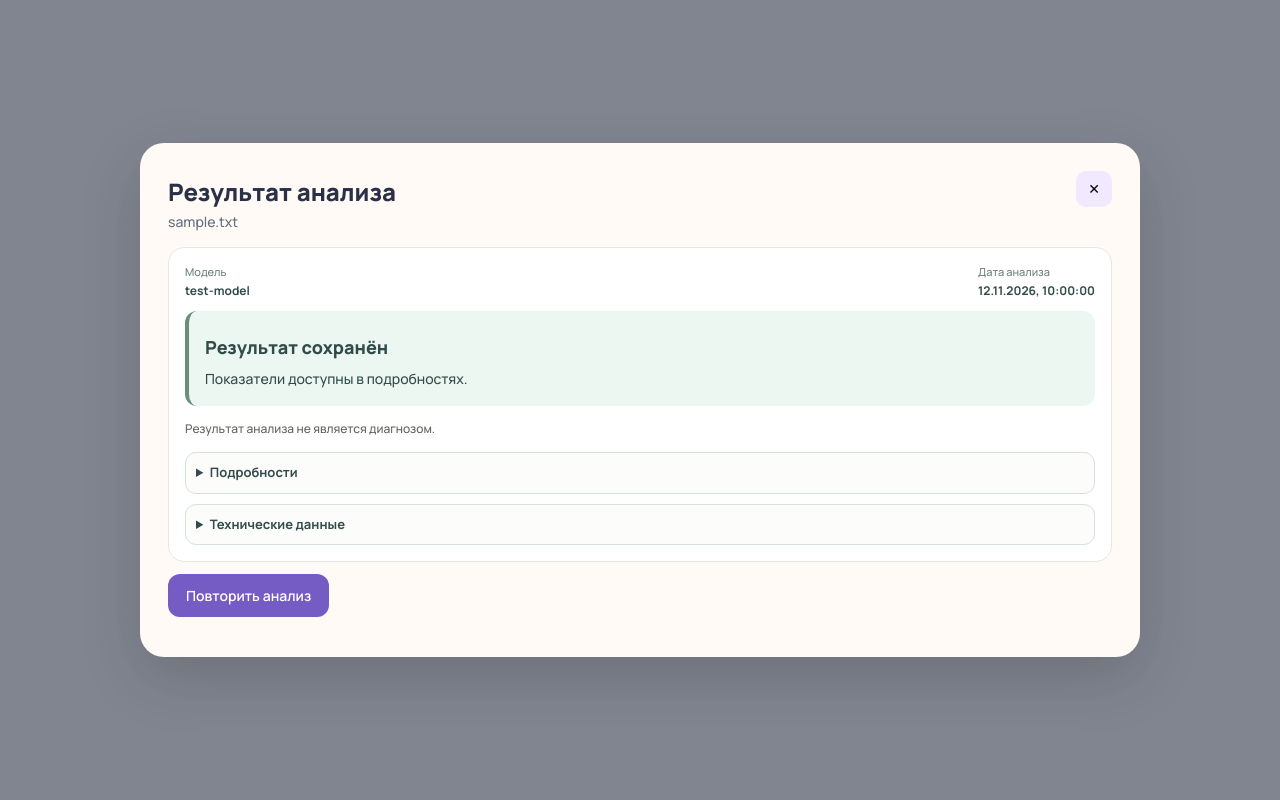
failed run is displayed and selectable with older history
Click the button "Повторить анализ": {"x": 249, "y": 596} [168, 574, 329, 617]
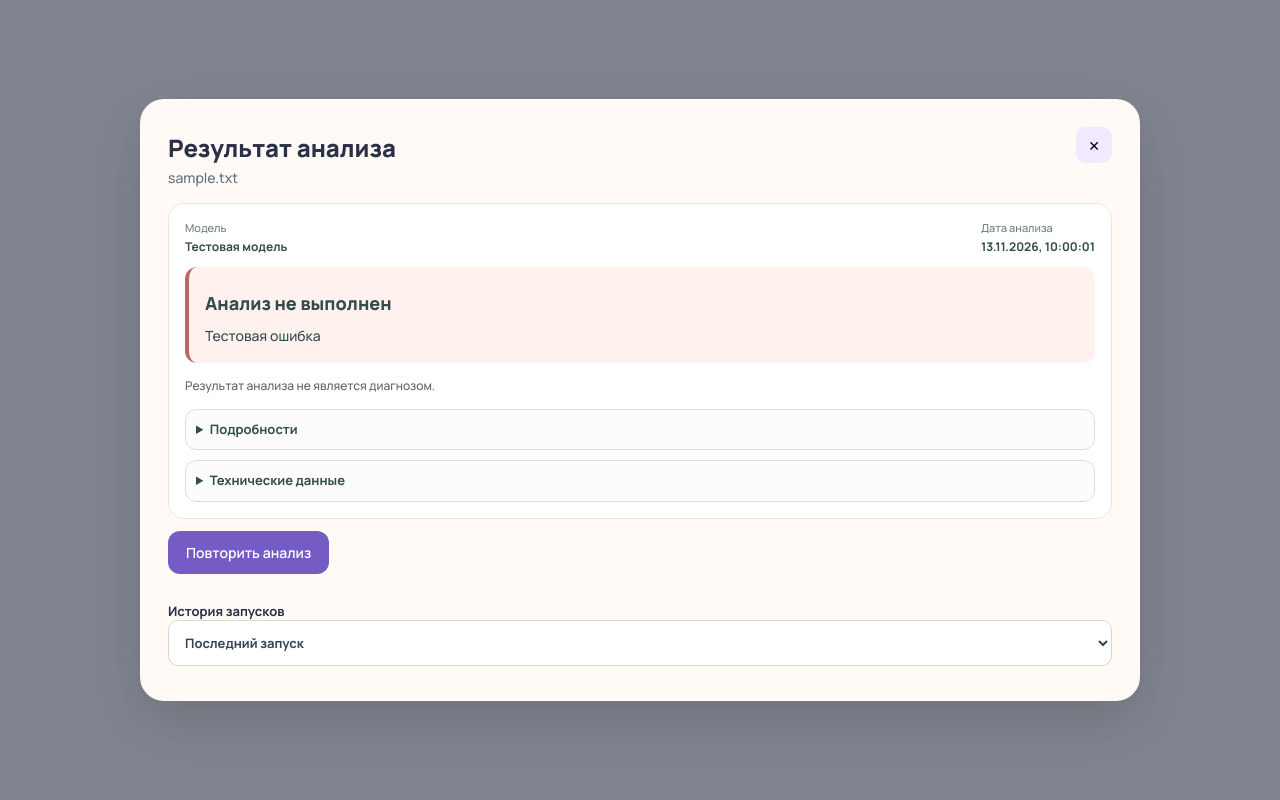
Expected: the heading "Анализ не выполнен" is shown, [205, 291, 392, 315]
Select "12.11.2026, 10:00:00 — Завершён" in the dropdown labelled "История запусков": {"x": 640, "y": 643} [168, 620, 1112, 666]
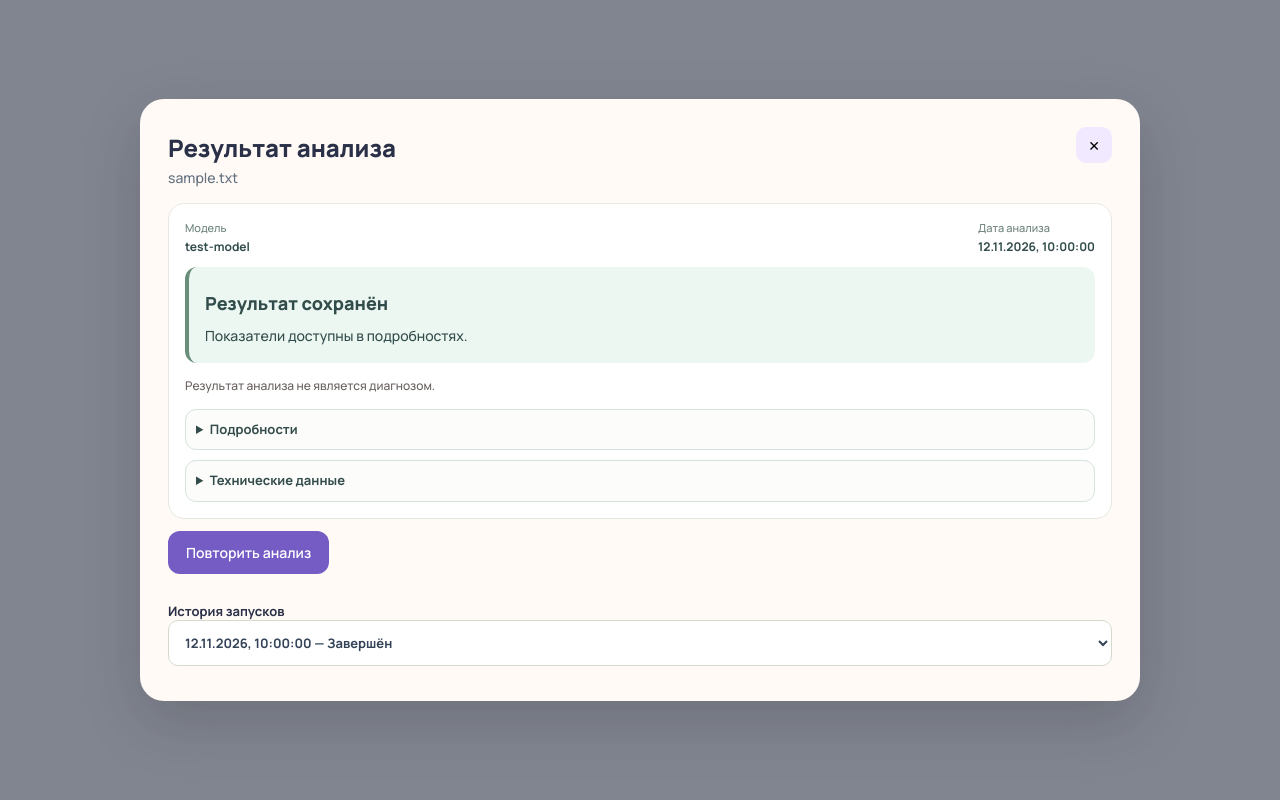
Expected: the heading "Анализ не выполнен" is gone
